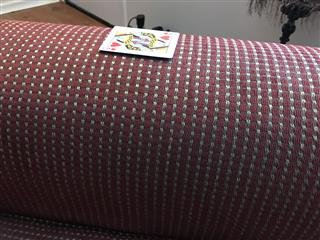QueenOfHearts: (98, 24, 179, 58)
